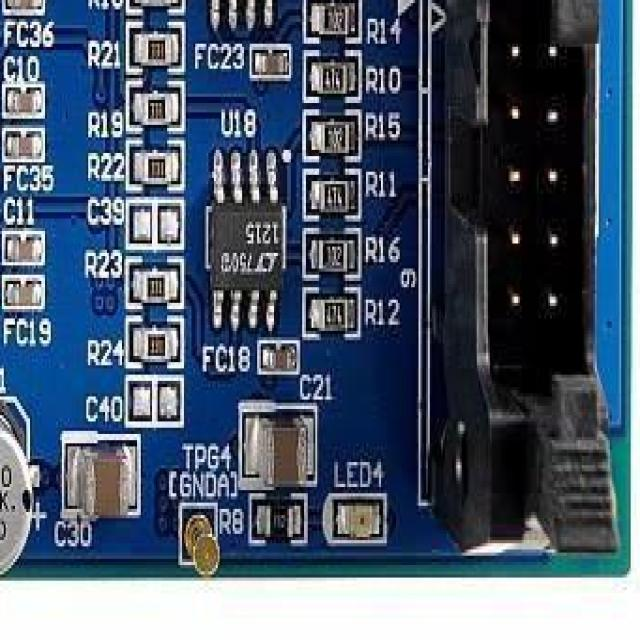IC: (199, 137, 287, 331), (195, 0, 285, 28)
LED: (330, 496, 385, 540)
capacitor: (242, 406, 317, 487), (64, 437, 139, 515), (0, 78, 45, 119), (0, 228, 43, 268), (257, 334, 300, 372), (0, 275, 43, 312), (250, 37, 289, 75), (4, 128, 43, 162), (1, 0, 43, 9)
connector: (428, 0, 615, 571)
electrolytic capacitor: (0, 396, 30, 562)
pads: (126, 200, 182, 243), (126, 378, 182, 421)
resistor: (302, 281, 359, 337), (300, 225, 360, 275), (124, 256, 182, 306), (126, 140, 182, 190), (306, 166, 360, 216), (250, 490, 304, 540), (128, 18, 182, 66), (304, 109, 359, 156), (126, 84, 182, 128), (306, 50, 358, 97), (126, 319, 182, 362), (304, 0, 358, 37), (126, 0, 184, 9)
test point: (180, 502, 218, 574)
